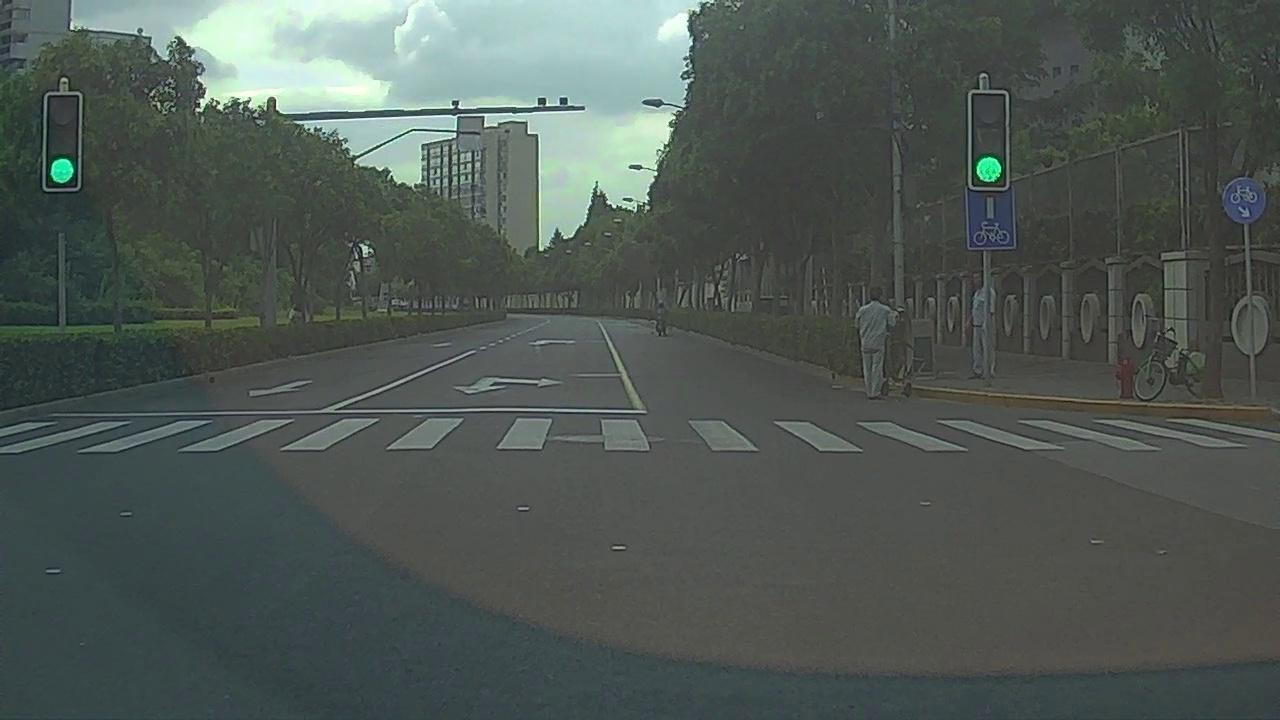traffic_light: (45, 91, 80, 195), (974, 93, 1007, 188)
